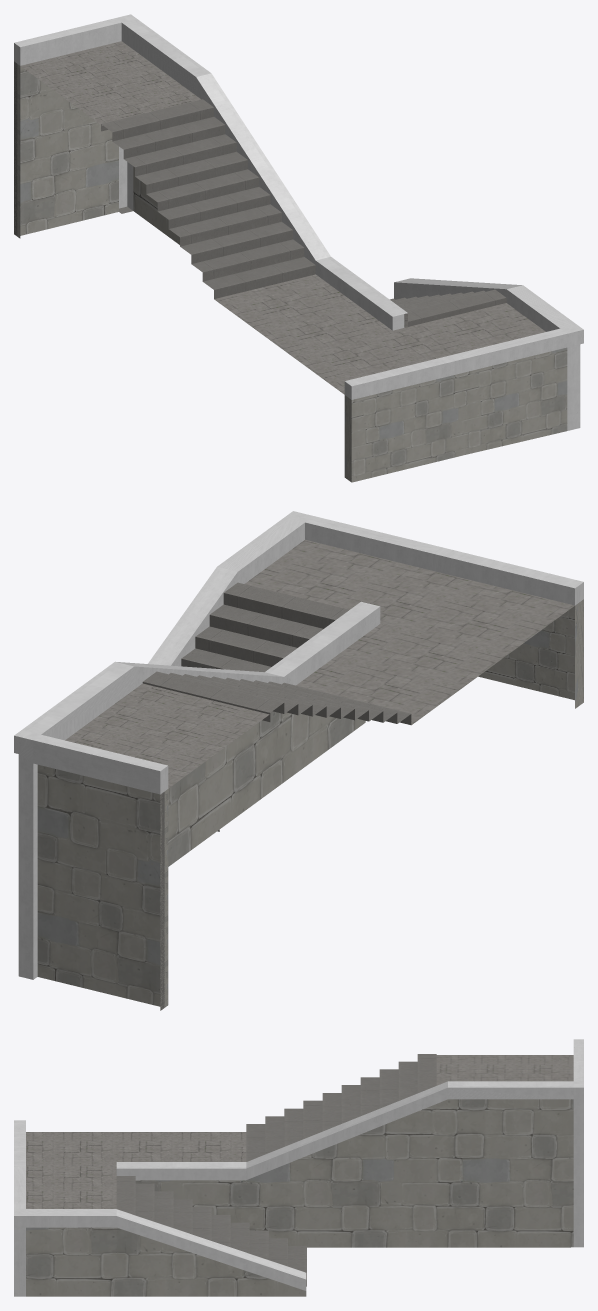
File: BilldingStair_D.fbx
3 renders of one model, top to bottom at view 1: azimuth 30°, elevation 25°; view 2: azimuth 150°, elevation 25°; view 3: azimuth 270°, elevation 25°, orthographic. The views are drawn at different scales.
Visible parts, largest first — view 1: BilldingStair_D; view 2: BilldingStair_D; view 3: BilldingStair_D.
Boxes of the visible parts, x1=… form: BilldingStair_D: x1=14, y1=14, x2=583, y2=482; BilldingStair_D: x1=14, y1=511, x2=583, y2=1010; BilldingStair_D: x1=14, y1=1039, x2=583, y2=1296.
Size of the model in its own units: 683 by 554 by 1720.
4 materials, 4 textured.
